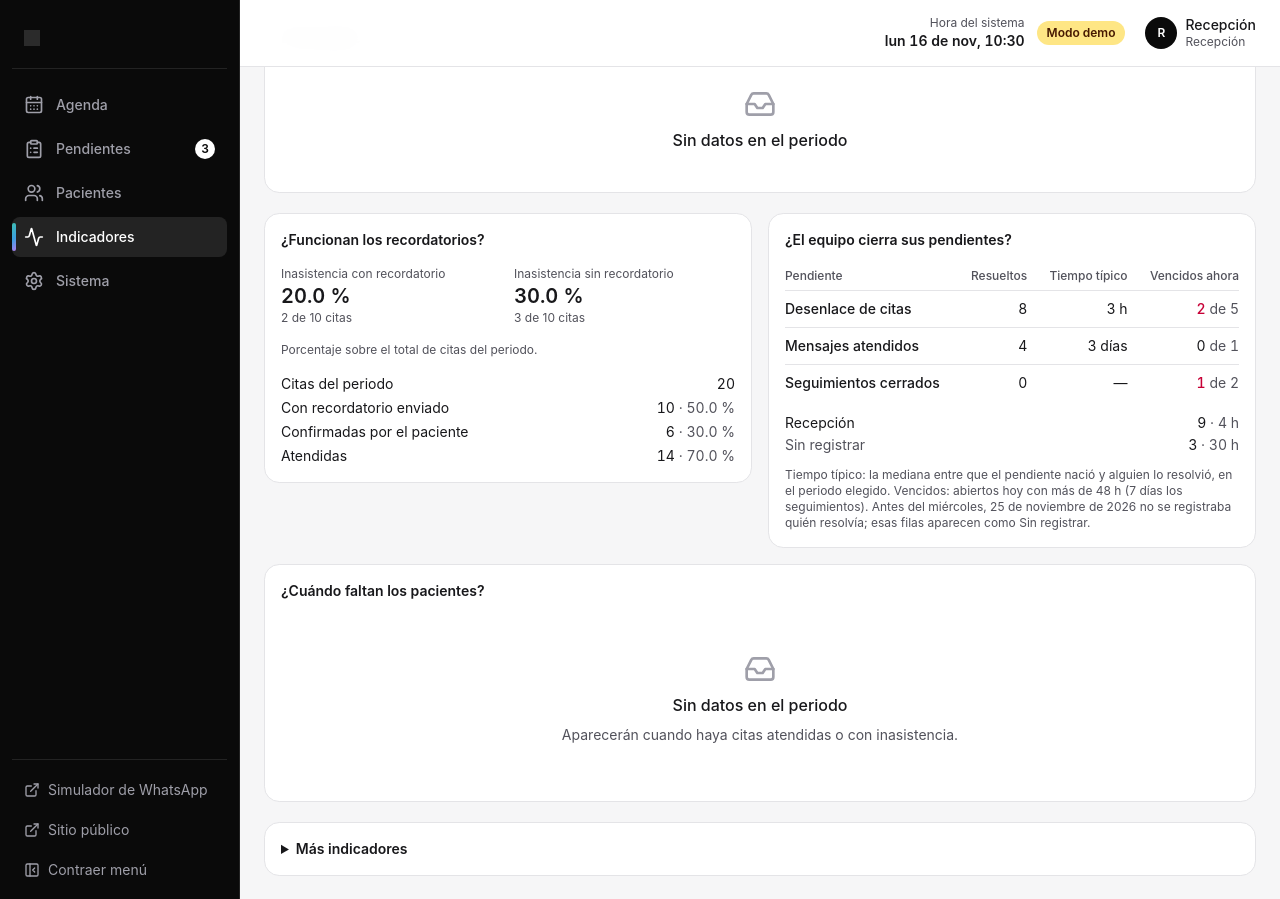
Test case: indicadores › dentro de Más indicadores cuenta cuánto tardan en volver a agendar
(page scrolled)
Click the heading "Más indicadores".
click(352, 848)  # box 296,840 -> 407,857
(page scrolled)
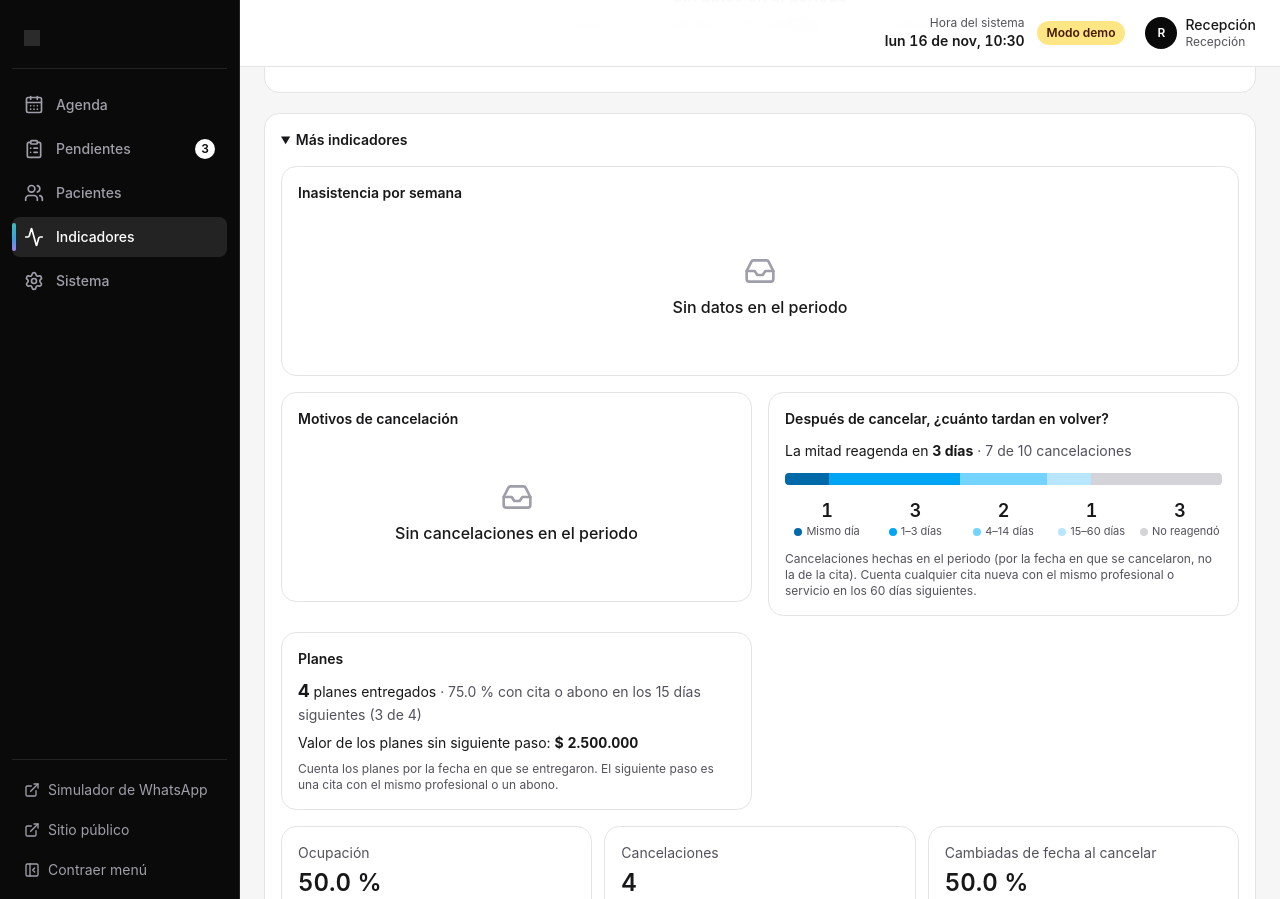
Now the text "La mitad reagenda en 3 días · 7 de 10 cancelaciones" is shown, box 785,442 -> 1132,459
Now the list items read "1Mismo día", "31–3 días", "24–14 días", "115–60 días", "3No reagendó", in this order, box 794,500 -> 860,538; 889,500 -> 942,538; 973,500 -> 1034,538; 1058,500 -> 1125,538; 1138,497 -> 1222,539
